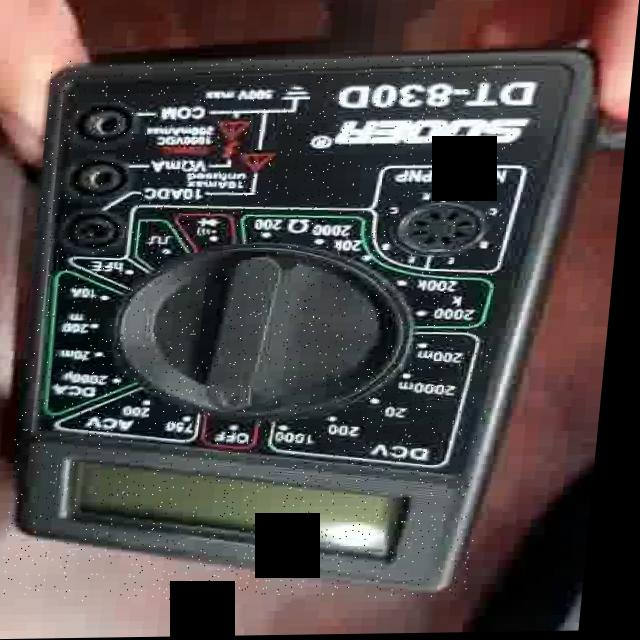multimeter: (11, 56, 521, 604)
